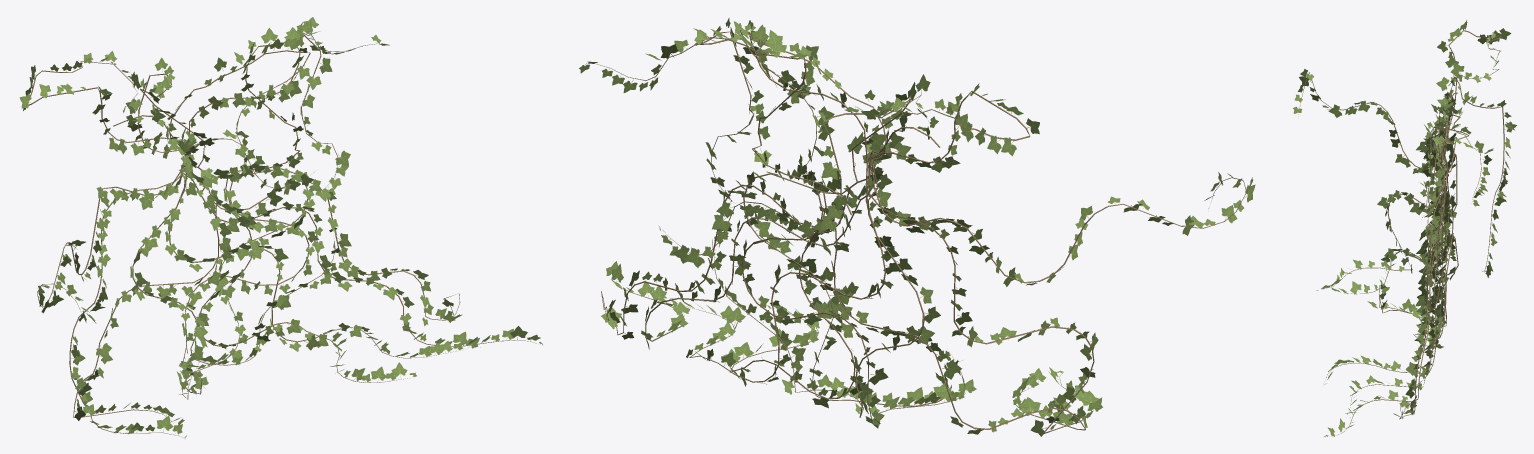
Rendered from ivy_05.fbx.
3 views of the same model, side by side, from view 1: azimuth 30°, elevation 25°; view 2: azimuth 150°, elevation 25°; view 3: azimuth 270°, elevation 25° (orthographic). The views are drawn at different scales.
Visible parts, largest first — view 1: NewIvySnapshot_6; view 2: NewIvySnapshot_6; view 3: NewIvySnapshot_6.
Part boxes in pixels (bbox=[...]): NewIvySnapshot_6: bbox=[19, 17, 542, 438]; NewIvySnapshot_6: bbox=[579, 17, 1255, 436]; NewIvySnapshot_6: bbox=[1293, 20, 1516, 436].
Bounding box in the file's own units: 225 × 131 × 105.
